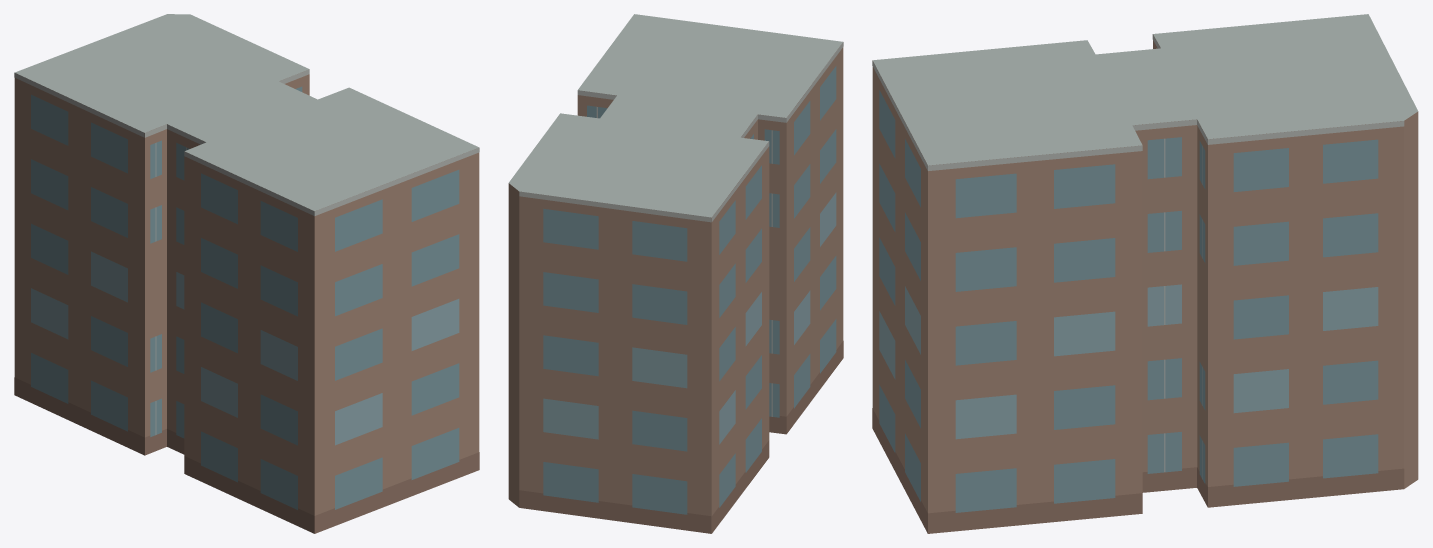
File: survey-upis-32700684.glb
3 views of the same model, side by side, from view 1: azimuth 30°, elevation 25°; view 2: azimuth 150°, elevation 25°; view 3: azimuth 270°, elevation 25° (orthographic). The views are drawn at different scales.
Visible parts, largest first — view 1: survey-upis-32700684.tmp; view 2: survey-upis-32700684.tmp; view 3: survey-upis-32700684.tmp.
Boxes of the visible parts, <box> form: survey-upis-32700684.tmp: <box>14,14,479,533</box>; survey-upis-32700684.tmp: <box>508,14,843,533</box>; survey-upis-32700684.tmp: <box>872,14,1418,533</box>.
Size of the model in its own units: 14.04 by 15.9 by 21.36.
